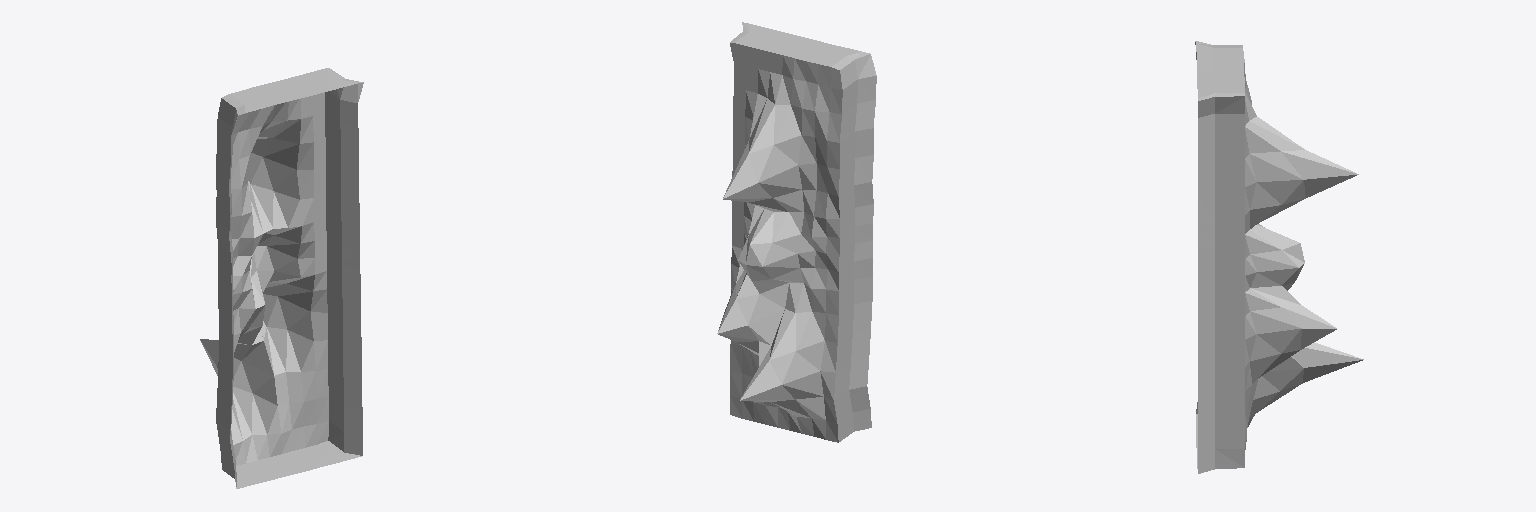
3 views of the same model, side by side, from view 1: azimuth 30°, elevation 25°; view 2: azimuth 150°, elevation 25°; view 3: azimuth 270°, elevation 25° (orthographic).
Parts seen in each view (by area): view 1: Sahne_Plane; view 2: Sahne_Plane; view 3: Sahne_Plane.
Part boxes in pixels (x1,y1,x2,y2): Sahne_Plane: (200,68,363,488); Sahne_Plane: (717,22,876,442); Sahne_Plane: (1195,41,1363,473).
Bounding box in the file's own units: 3.73 × 9.99 × 4.09.